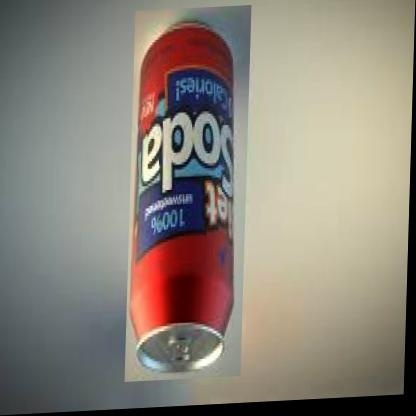trash: (130, 22, 232, 371)
